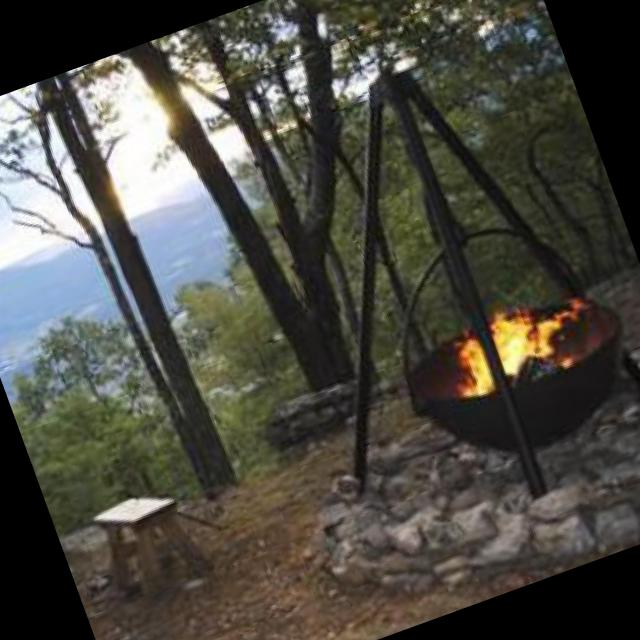fire: (432, 278, 582, 418)
